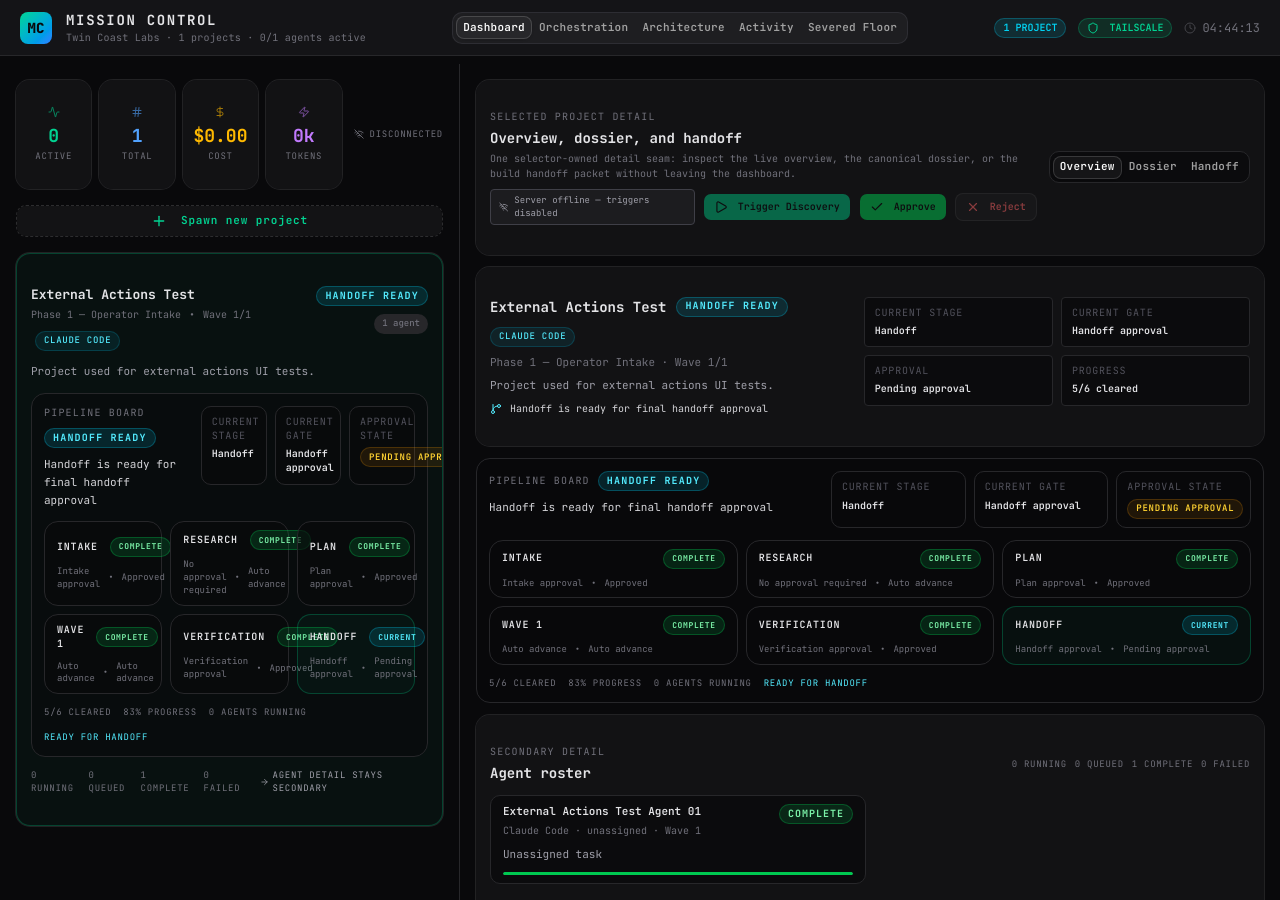
Test: ExternalActionsPanel UI › confirmed action › shows Execute button for confirmed action
Click the tab "Handoff" at (1215, 167), box x1=1184 y1=156 x2=1246 y2=179
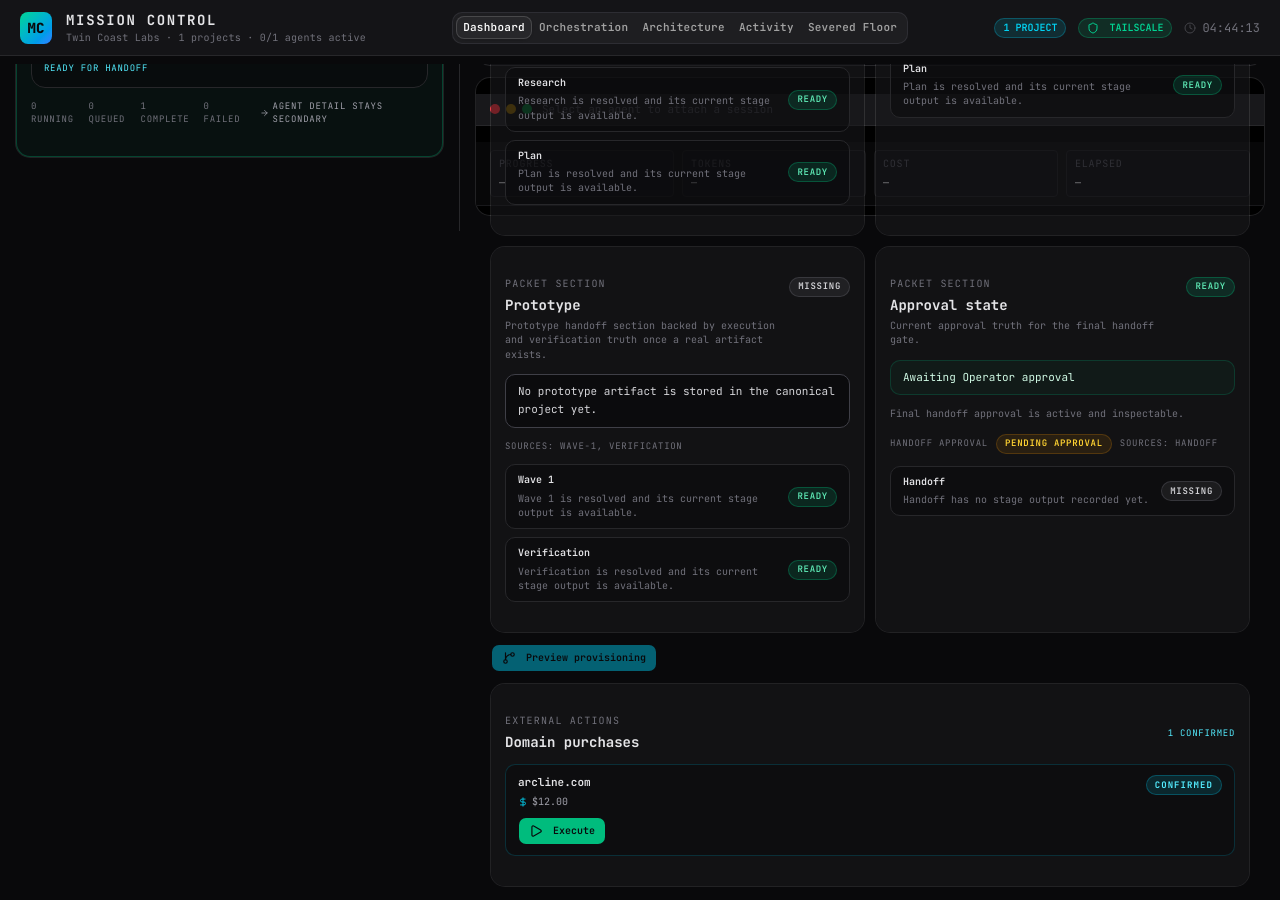
Now the element with test id "external-action-act-002" is shown, box x1=505 y1=764 x2=1235 y2=856
Now the button with test id "external-action-execute-btn" is shown, box x1=518 y1=817 x2=606 y2=845
Now the text "arcline.com" is shown, box x1=518 y1=776 x2=591 y2=791
